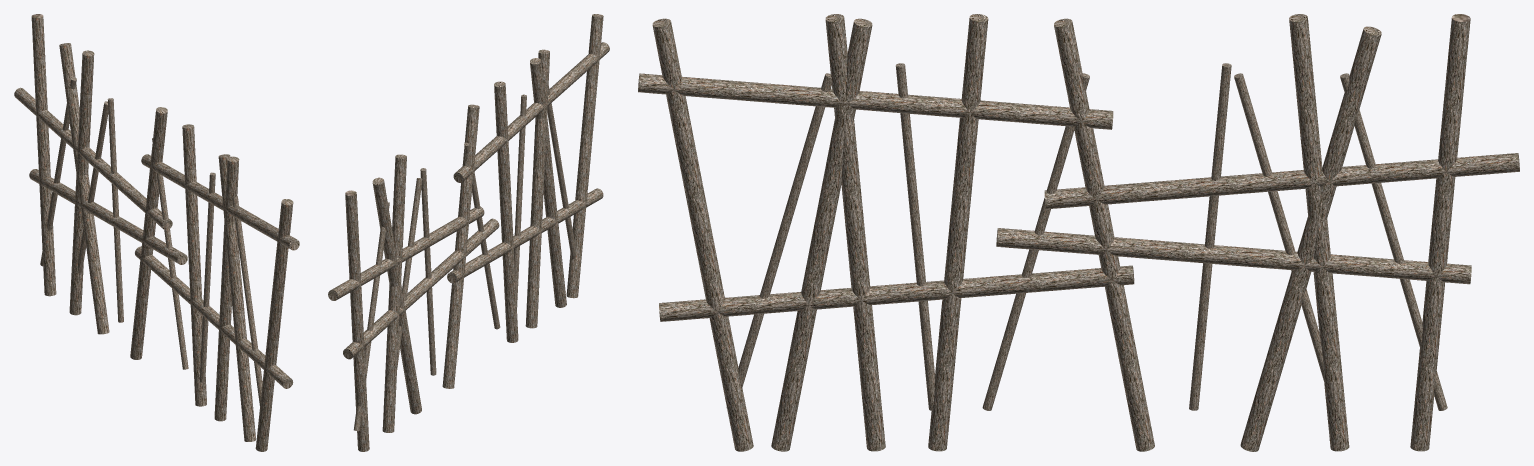
The model's file is fence.FBX.
3 views of the same model, side by side, from view 1: azimuth 30°, elevation 25°; view 2: azimuth 150°, elevation 25°; view 3: azimuth 270°, elevation 25° (orthographic). The views are drawn at different scales.
Visible parts, largest first — view 1: Cylinder008, Cylinder004, Cylinder006, Cylinder001, Cylinder002, Cylinder005, Cylinder007, Cylinder003, Cylinder012, Cylinder010, Cylinder009, Cylinder011 (+6 smaller); view 2: Cylinder001, Cylinder005, Cylinder004, Cylinder007, Cylinder008, Cylinder003, Cylinder002, Cylinder006, Cylinder009, Cylinder011, Cylinder012, Cylinder010 (+6 smaller); view 3: Cylinder009, Cylinder012, Cylinder011, Cylinder010, Cylinder001, Cylinder004, Cylinder008, Cylinder005, Cylinder006, Cylinder007, Cylinder002, Cylinder003 (+6 smaller).
Boxes of the visible parts, bbox=[...] form: Cylinder008: bbox=[31, 14, 56, 296]; Cylinder004: bbox=[182, 124, 206, 406]; Cylinder006: bbox=[59, 43, 109, 334]; Cylinder001: bbox=[255, 199, 293, 451]; Cylinder002: bbox=[218, 154, 255, 441]; Cylinder005: bbox=[130, 107, 167, 359]; Cylinder007: bbox=[69, 50, 94, 315]; Cylinder003: bbox=[214, 156, 239, 421]; Cylinder012: bbox=[14, 87, 172, 229]; Cylinder010: bbox=[135, 246, 293, 388]; Cylinder009: bbox=[29, 169, 187, 264]; Cylinder011: bbox=[141, 154, 299, 250]; Cylinder001: bbox=[566, 14, 603, 298]; Cylinder005: bbox=[442, 104, 479, 388]; Cylinder004: bbox=[494, 81, 518, 342]; Cylinder007: bbox=[382, 154, 406, 432]; Cylinder008: bbox=[345, 190, 369, 451]; Cylinder003: bbox=[525, 49, 549, 328]; Cylinder002: bbox=[530, 58, 566, 307]; Cylinder006: bbox=[372, 177, 421, 414]; Cylinder009: bbox=[343, 218, 499, 359]; Cylinder011: bbox=[453, 42, 609, 182]; Cylinder012: bbox=[328, 206, 484, 300]; Cylinder010: bbox=[447, 188, 603, 283]; Cylinder009: bbox=[996, 228, 1471, 284]; Cylinder012: bbox=[1044, 153, 1519, 209]; Cylinder011: bbox=[638, 73, 1113, 129]; Cylinder010: bbox=[659, 265, 1134, 321]; Cylinder001: bbox=[652, 18, 753, 451]; Cylinder004: bbox=[928, 14, 988, 451]; Cylinder008: bbox=[1410, 14, 1470, 451]; Cylinder005: bbox=[1054, 18, 1154, 451]; Cylinder006: bbox=[1240, 26, 1381, 451]; Cylinder007: bbox=[1289, 14, 1349, 451]; Cylinder002: bbox=[771, 18, 872, 451]; Cylinder003: bbox=[825, 14, 885, 451].
Bounding box in the file's own units: 0.2 × 5.02 × 9.27.
Materials: 1 (1 with a texture image).
